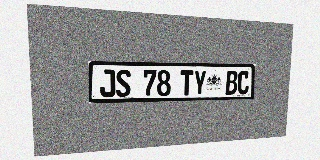7: (142, 70, 157, 96)
8: (157, 70, 171, 96)
B: (225, 71, 238, 95)
C: (237, 71, 249, 94)
J: (99, 69, 115, 97)
S: (116, 70, 131, 97)
T: (180, 70, 193, 96)
Y: (193, 70, 206, 95)
